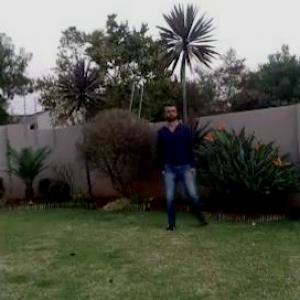follow: (158, 97, 196, 228)
